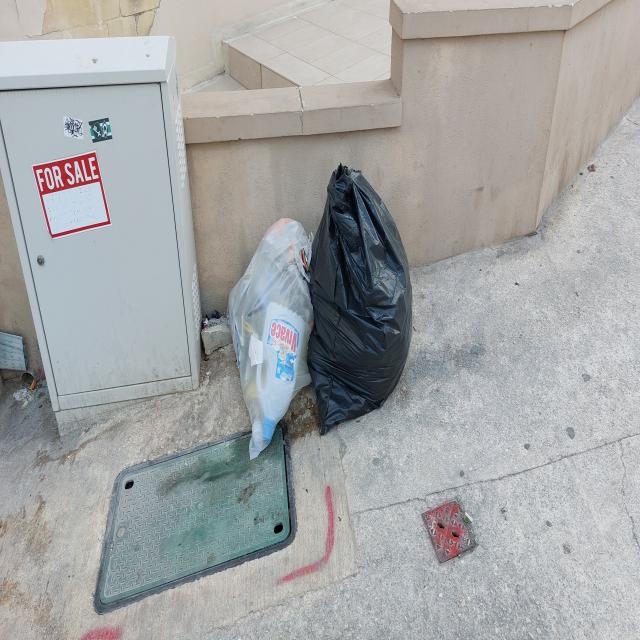Mixed Waste -Black Bag-: (307, 160, 416, 446)
Recycled Waste -Grey or Green Bag-: (225, 214, 314, 467)
